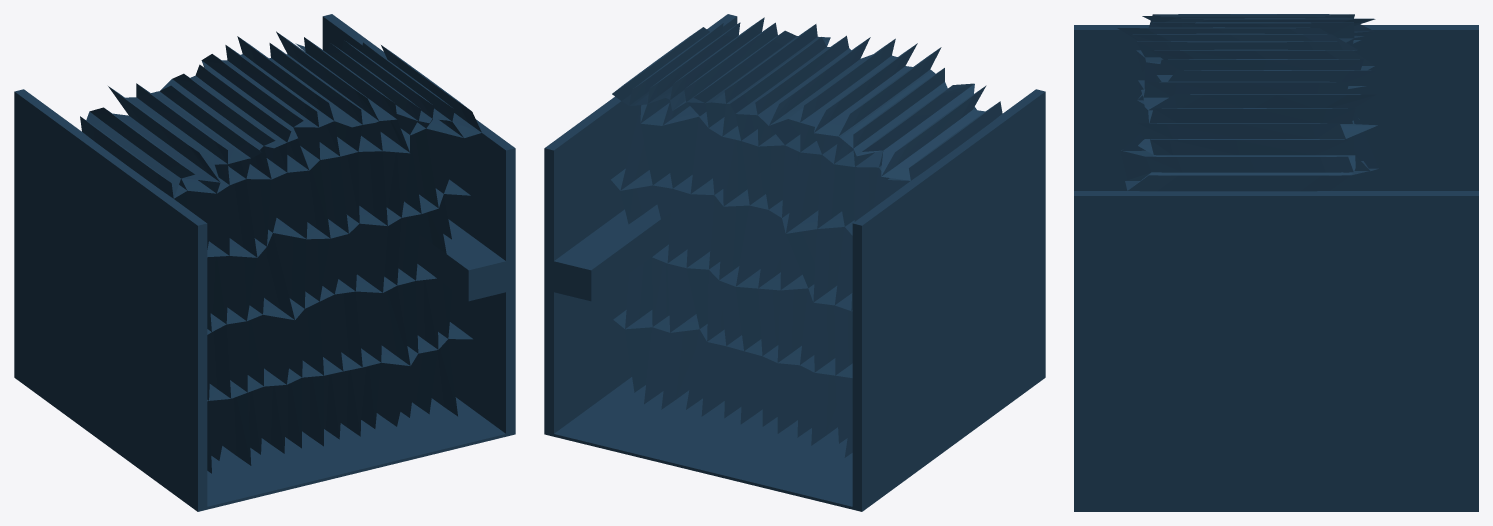
Rendered from sh-contrib-gate-iron.glb.
The picture shows the model from 3 angles, left to right: view 1: azimuth 30°, elevation 25°; view 2: azimuth 150°, elevation 25°; view 3: azimuth 270°, elevation 25°; orthographic projection. The views are drawn at different scales.
Visible parts, largest first — view 1: 2_2; view 2: 2_2; view 3: 2_2.
Boxes of the visible parts, bbox=[...] form: 2_2: bbox=[14, 14, 515, 511]; 2_2: bbox=[544, 14, 1045, 511]; 2_2: bbox=[1074, 14, 1478, 511].
Bounding box in the file's own units: 1 × 1 × 1.
